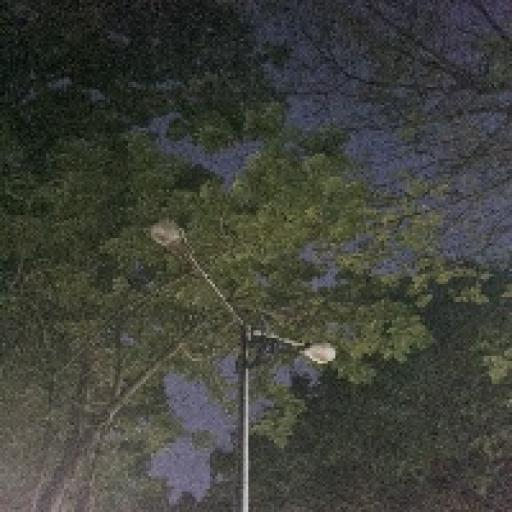Not Working: (144, 213, 198, 268), (289, 332, 342, 377)
